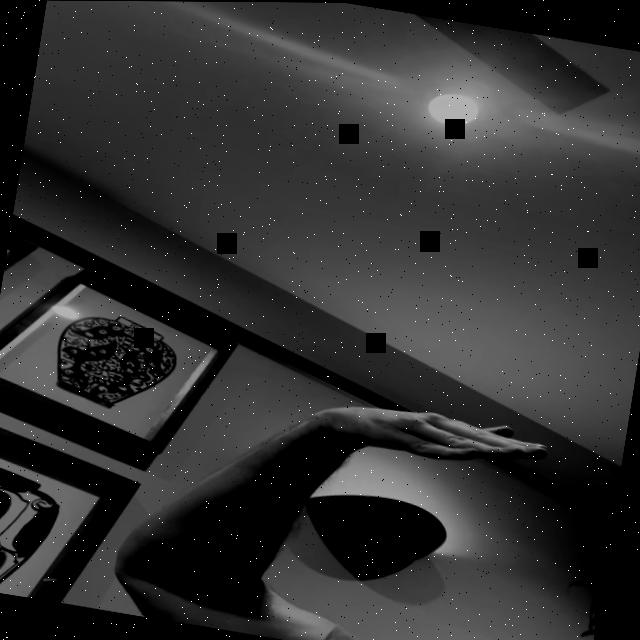Paper: (310, 392, 555, 479)
